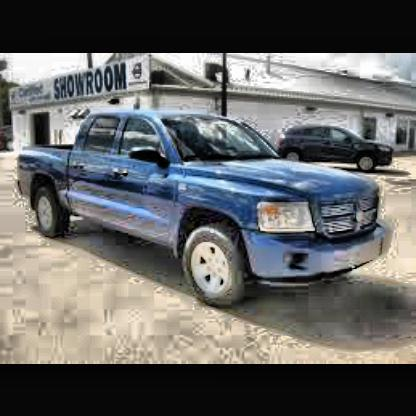Dodge Dakota Crew Cab 2010: (12, 106, 400, 311)
